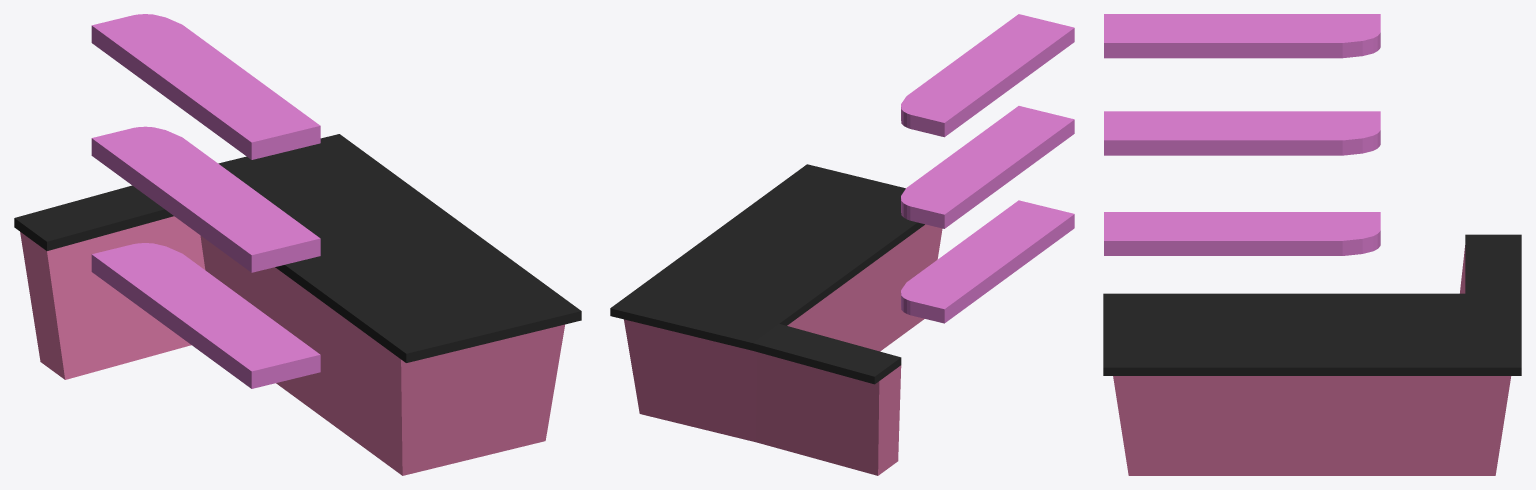
The picture shows the model from 3 angles, left to right: view 1: azimuth 30°, elevation 25°; view 2: azimuth 150°, elevation 25°; view 3: azimuth 270°, elevation 25°; orthographic projection. The views are drawn at different scales.
Visible parts, largest first — view 1: Cube, Cube.001, Cube.002, Cube.003; view 2: Cube, Cube.001, Cube.002, Cube.003; view 3: Cube, Cube.002, Cube.003, Cube.001.
Part boxes in pixels (bbox=[...]): Cube: bbox=[14, 134, 581, 475]; Cube.001: bbox=[91, 243, 320, 388]; Cube.002: bbox=[91, 126, 320, 272]; Cube.003: bbox=[91, 14, 320, 159]; Cube: bbox=[610, 164, 942, 475]; Cube.001: bbox=[901, 200, 1074, 323]; Cube.002: bbox=[901, 106, 1074, 228]; Cube.003: bbox=[901, 14, 1074, 137]; Cube: bbox=[1103, 234, 1521, 475]; Cube.002: bbox=[1104, 111, 1380, 155]; Cube.003: bbox=[1104, 14, 1380, 58]; Cube.001: bbox=[1104, 212, 1380, 255].
Bounding box in the file's own units: 1382 × 1559 × 1758.
